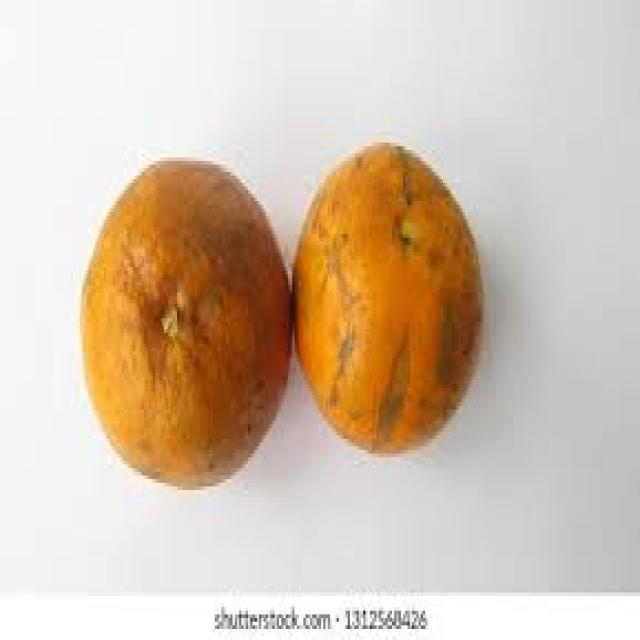overripe: (78, 148, 296, 497), (297, 132, 486, 462)
